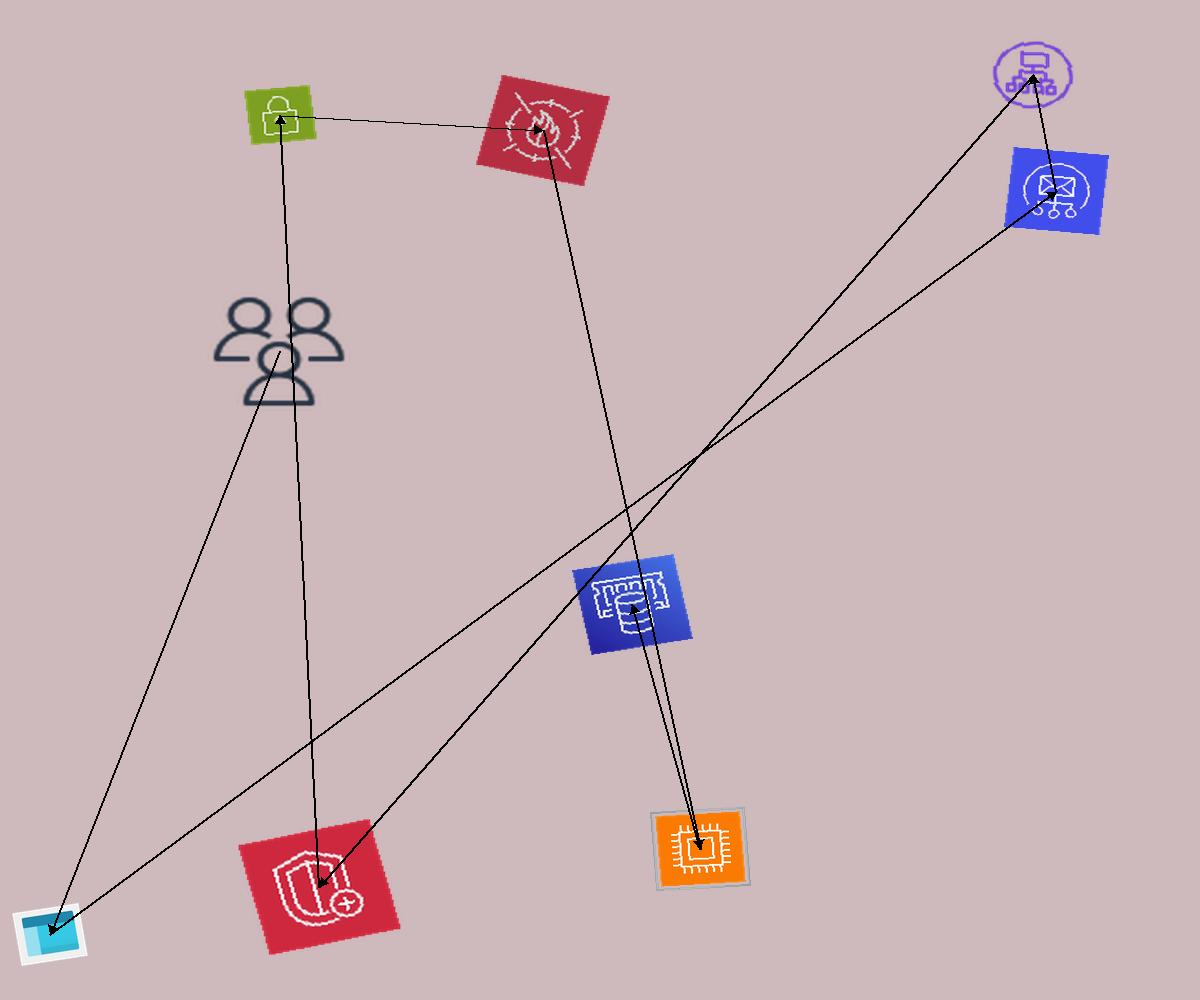AWS-Category_Compute: (649, 806, 752, 892)
AWS-ElastiCache: (572, 554, 693, 655)
AWS-Public-subnet: (243, 84, 318, 146)
AWS-Res_Elastic-Load-Balancing_Application-Load-Balancer: (984, 34, 1082, 116)
AWS-Res_Users: (205, 290, 353, 413)
AWS-Shield: (237, 818, 402, 956)
AWS-Simple-Email-Service: (1004, 147, 1109, 235)
AWS-WAF: (475, 74, 611, 187)
Azure_management-portal: (12, 903, 88, 966)
